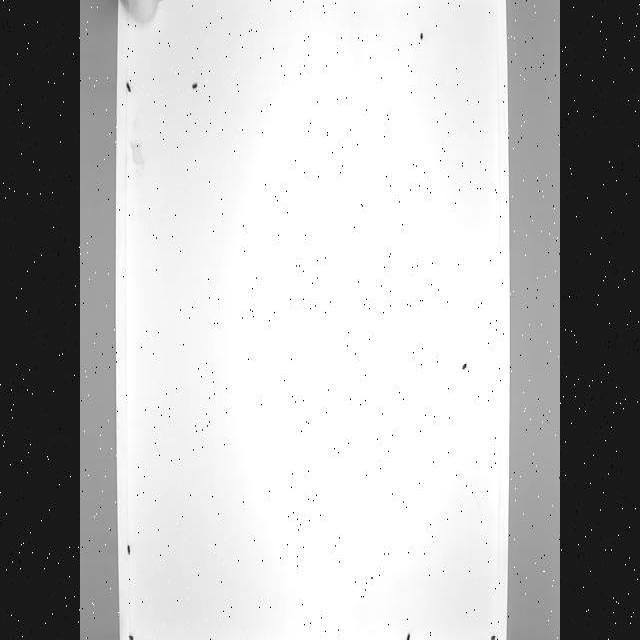rat: (123, 3, 162, 24)
